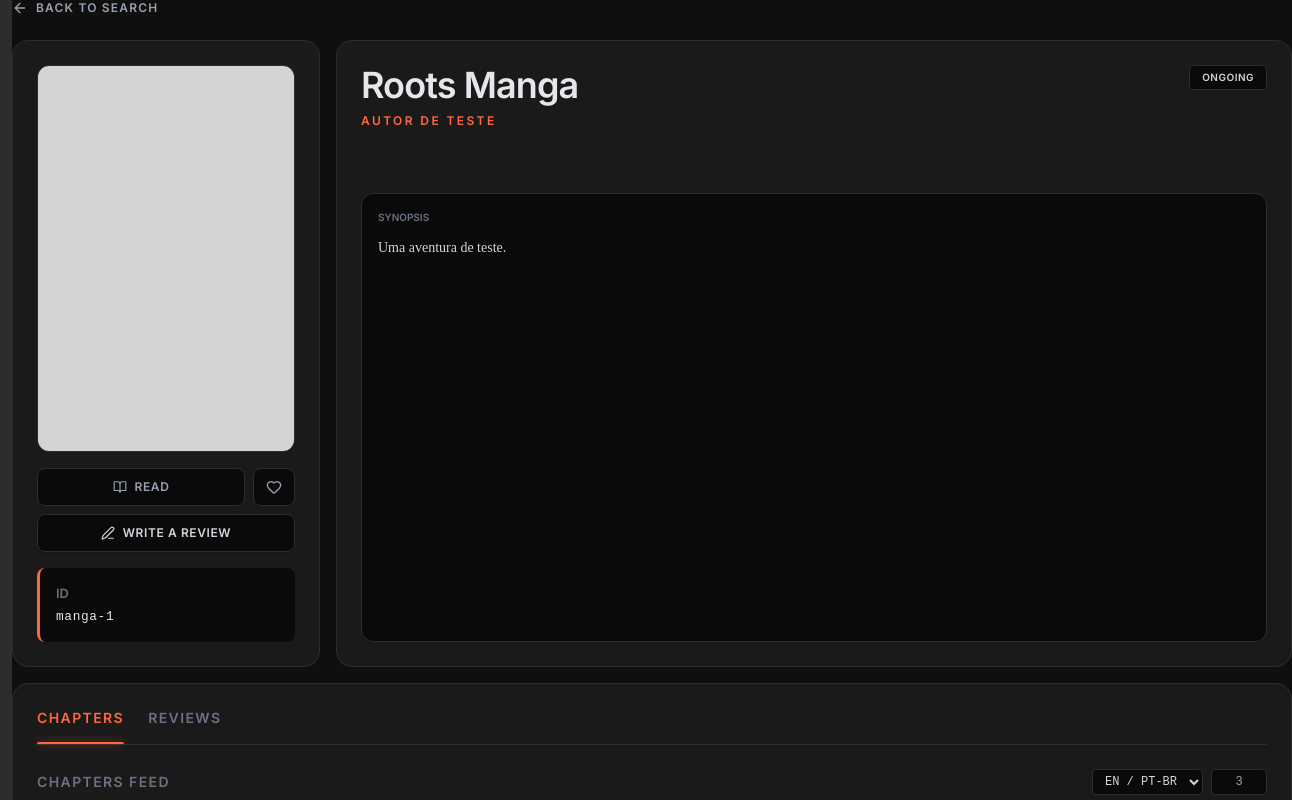
Test: detail synchronizes an asynchronously loaded review into the edit form
Click the button "Reviews" at (185, 726), box [148,708,221,744]
(page scrolled)
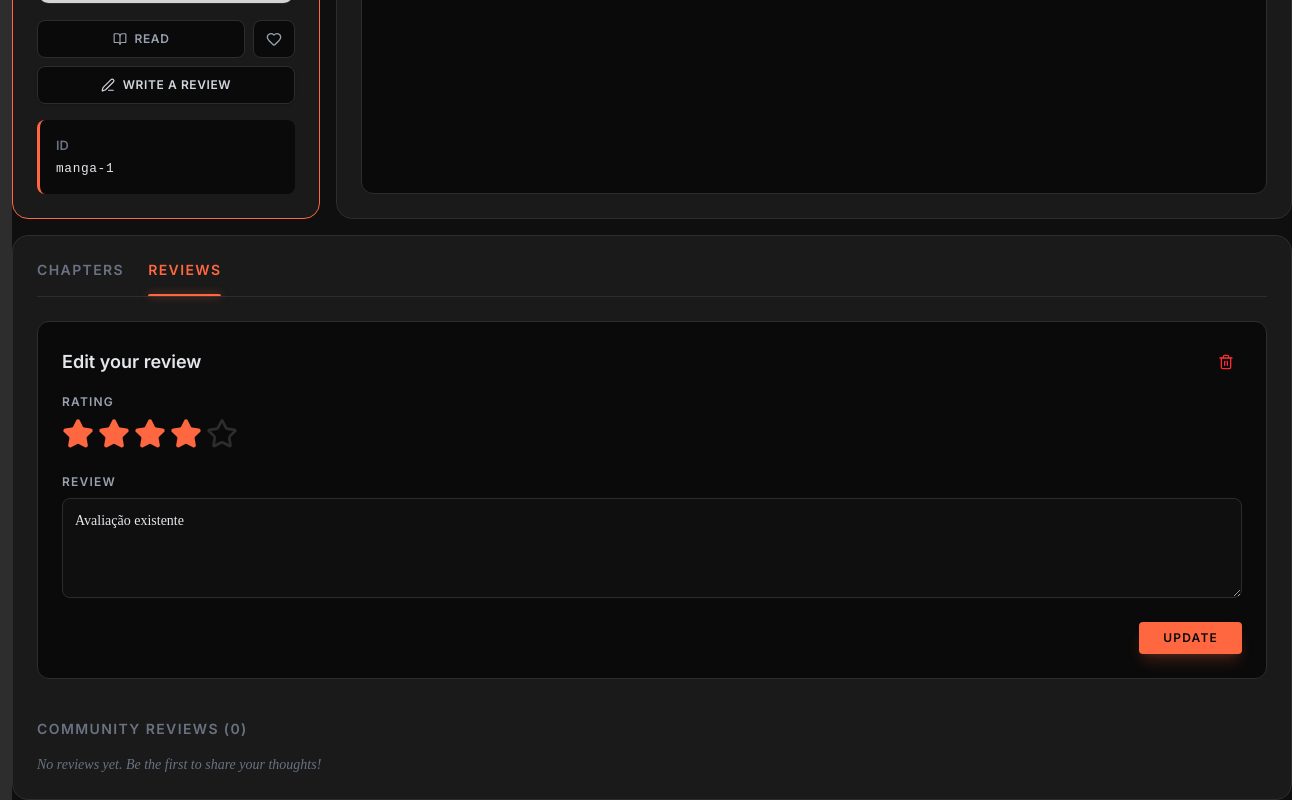
Now the text box holds "Avaliação existente", box [62,498,1242,598]
